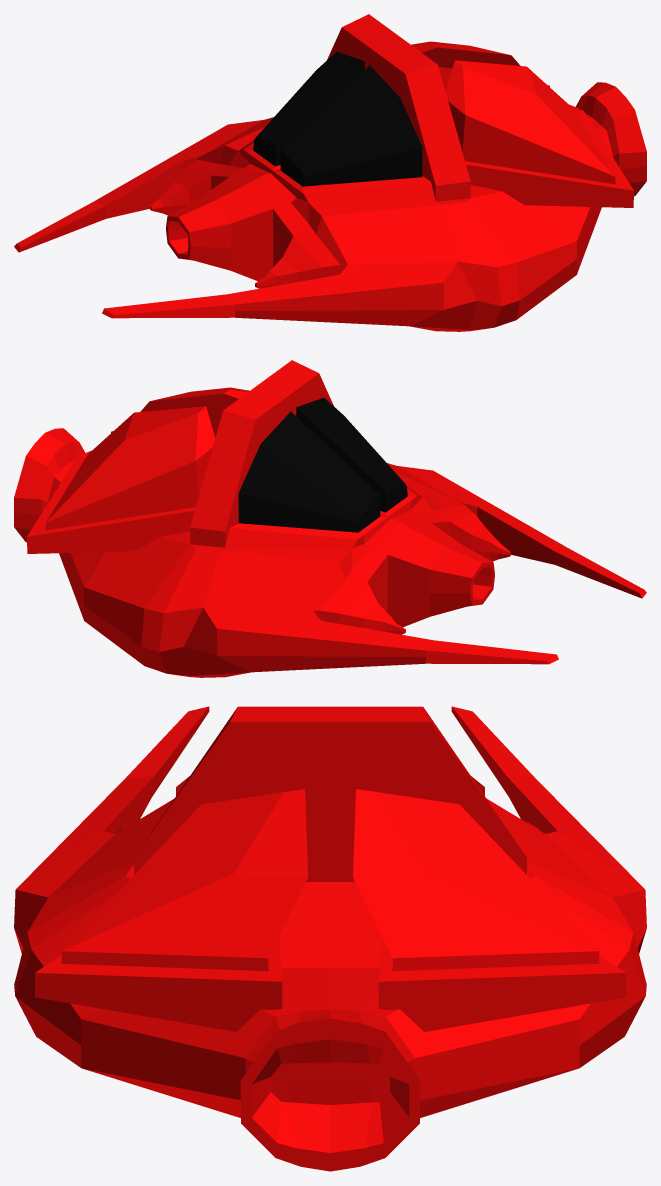
The model's file is Orbit.fbx.
The picture shows the model from 3 angles, top to bottom: view 1: azimuth 30°, elevation 25°; view 2: azimuth 150°, elevation 25°; view 3: azimuth 270°, elevation 25°; orthographic projection. The views are drawn at different scales.
Parts seen in each view (by area): view 1: Cube; view 2: Cube; view 3: Cube.
Part boxes in pixels (<box>): Cube: <box>14,14,646,331</box>; Cube: <box>14,360,646,677</box>; Cube: <box>14,706,646,1171</box>.
Bounding box in the file's own units: 73.63 × 30.69 × 49.81.
